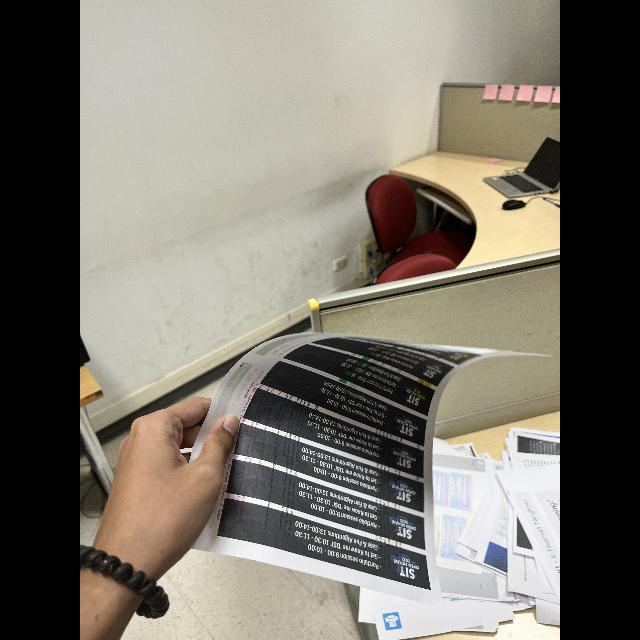reuseable_paper: (174, 326, 560, 606), (324, 422, 560, 640)
